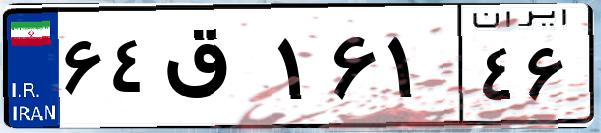1: (270, 28, 330, 110), (385, 28, 445, 110)
4: (475, 38, 525, 113), (110, 28, 158, 98)
6: (330, 28, 385, 110), (57, 26, 110, 100), (525, 38, 570, 115)
ق: (158, 20, 270, 120)
